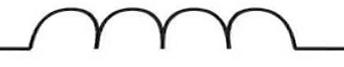inductor: (23, 2, 303, 56)
